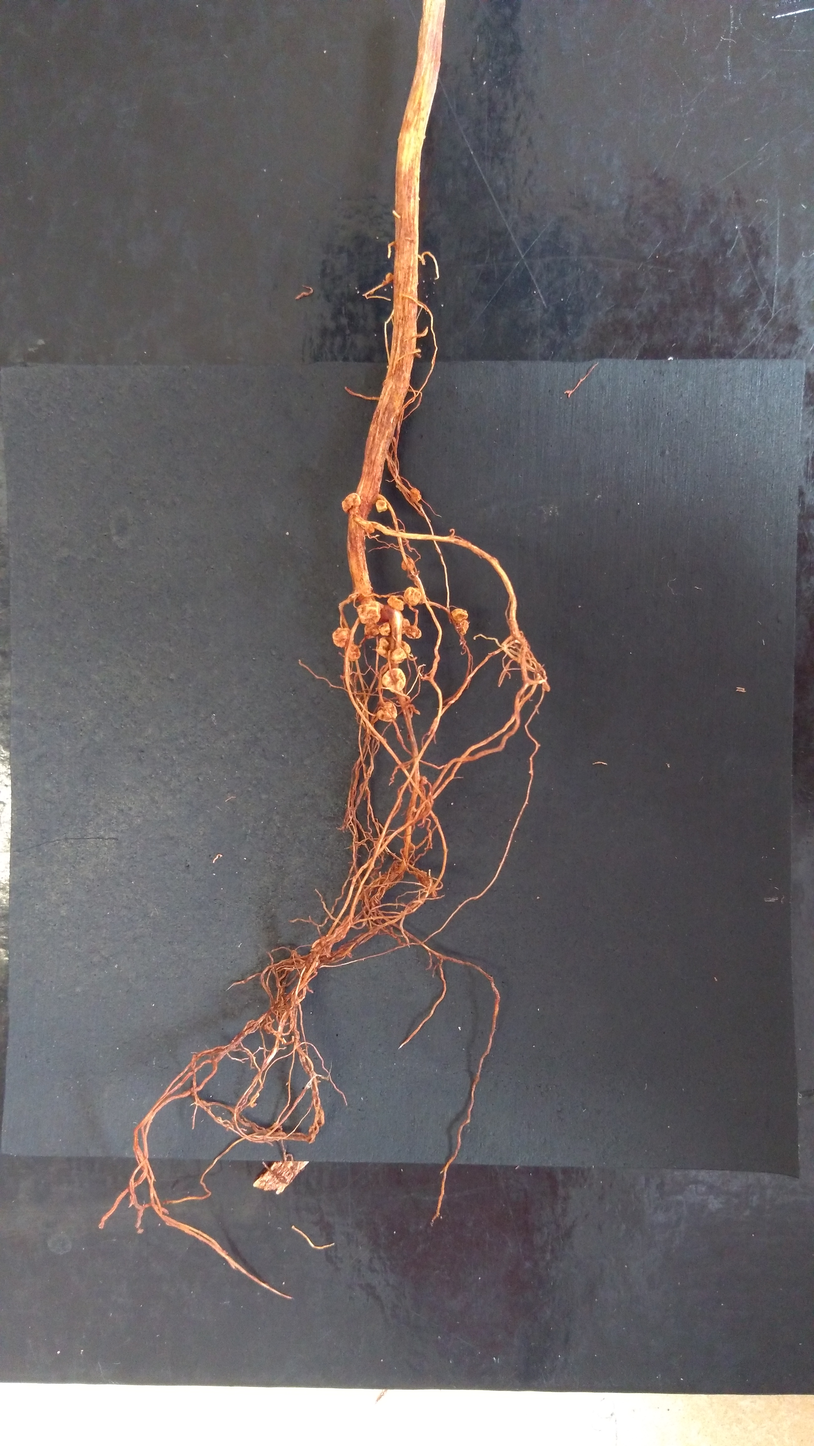nodule: (382, 668, 406, 693), (357, 601, 384, 623), (333, 915, 354, 941), (376, 701, 397, 721), (341, 493, 361, 513), (332, 627, 351, 648), (311, 937, 331, 955), (404, 587, 421, 606), (376, 637, 391, 658), (345, 644, 361, 661), (387, 595, 404, 611), (364, 623, 380, 639), (451, 608, 468, 623), (243, 1019, 260, 1034), (391, 648, 407, 663), (405, 625, 421, 639), (401, 558, 414, 571), (378, 622, 390, 636), (409, 488, 421, 502), (375, 500, 387, 513), (459, 619, 468, 635), (401, 641, 411, 655), (402, 618, 410, 635), (365, 522, 375, 534), (541, 681, 551, 692), (419, 776, 428, 787), (419, 870, 428, 878), (385, 273, 392, 283), (412, 808, 417, 812)
